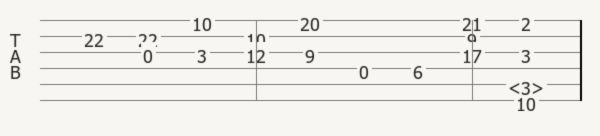0: (143, 44, 157, 61), (359, 60, 373, 77)
10: (192, 12, 216, 29), (246, 28, 270, 45), (516, 92, 540, 109)
12: (246, 44, 270, 61)
17: (462, 44, 486, 61)
2: (521, 12, 535, 29)
20: (300, 12, 324, 29)
21: (462, 12, 486, 29)
22: (84, 28, 108, 45), (138, 28, 162, 45)
3: (197, 44, 211, 61), (521, 44, 535, 61)
6: (413, 60, 427, 77)
9: (305, 44, 319, 61), (467, 28, 481, 45)
harmonic: (508, 76, 548, 93)
